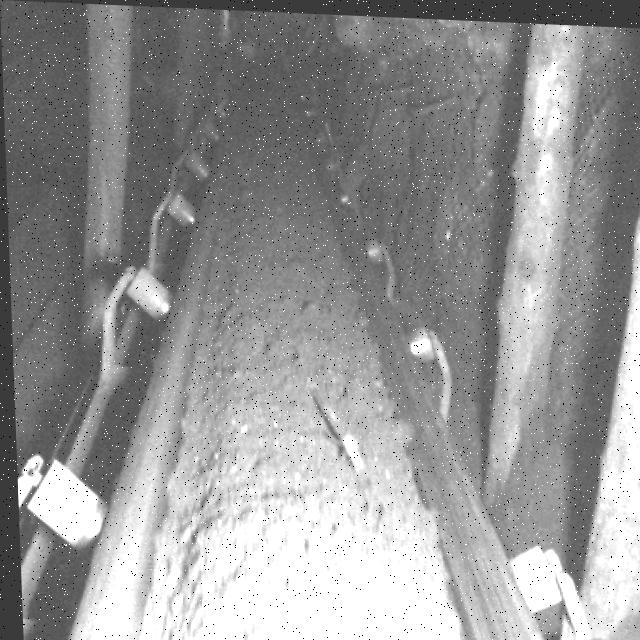bolt: (306, 378, 361, 474)
